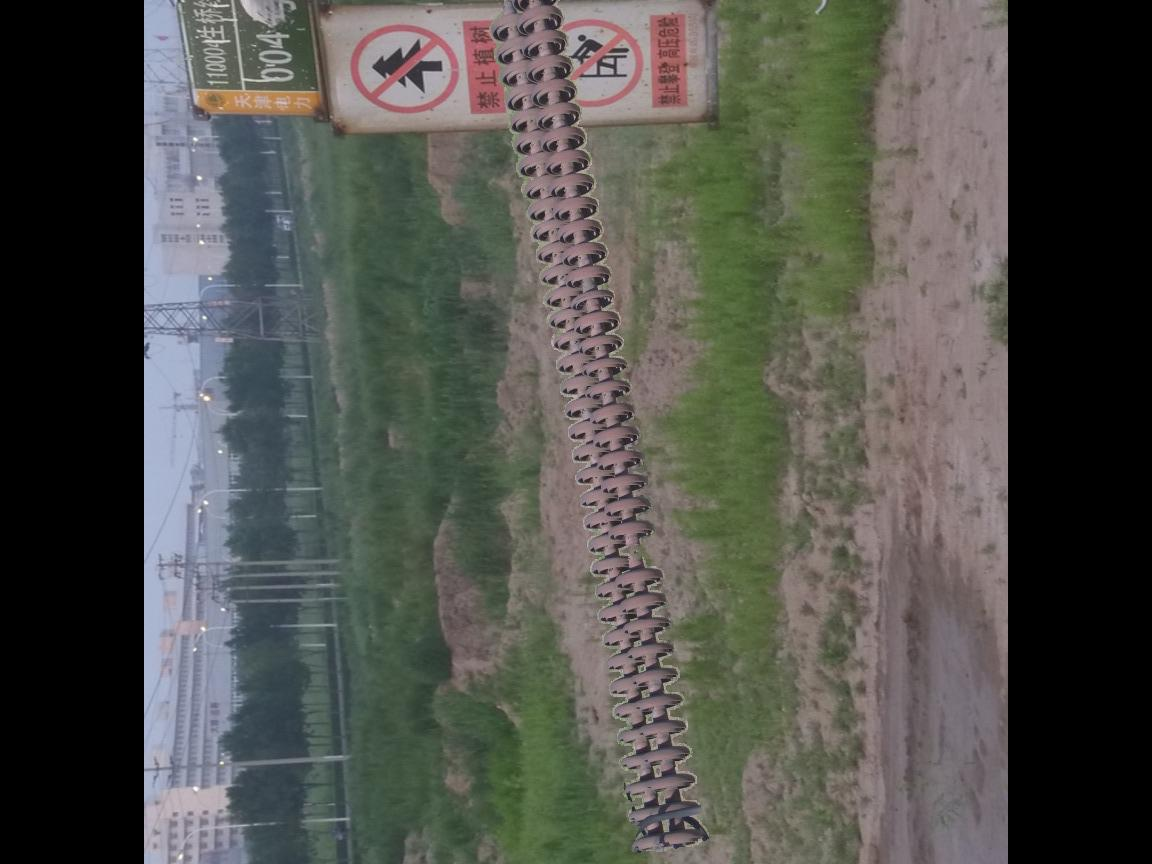insulator: (485, 1, 710, 858)
insulator_stringdrop: (603, 517, 669, 591)
